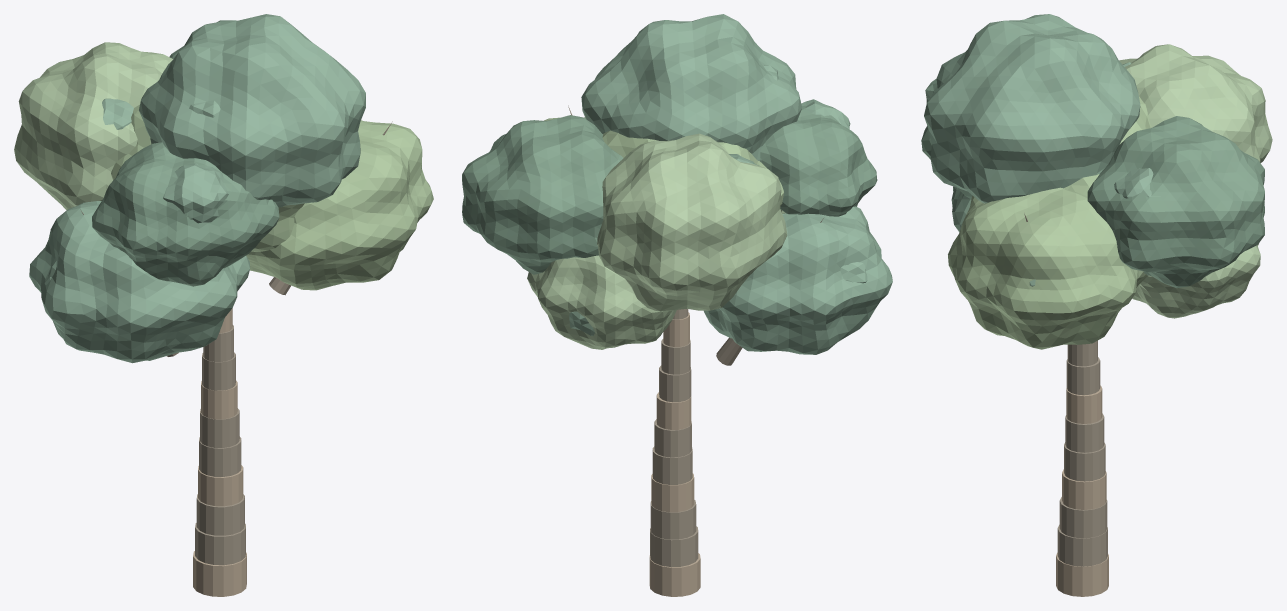
File: maple_scenic_tree.glb
3 renders of one model, left to right at view 1: azimuth 30°, elevation 25°; view 2: azimuth 150°, elevation 25°; view 3: azimuth 270°, elevation 25°, orthographic. The views are drawn at different scales.
Parts seen in each view (by area): view 1: Maple Scenic Tree_leaf1, Maple Scenic Tree_leaf2, Maple Scenic Tree_leaf3, Maple Scenic Tree_leaf4, Maple Scenic Tree_bark, Maple Scenic Tree_bark2; view 2: Maple Scenic Tree_leaf1, Maple Scenic Tree_leaf3, Maple Scenic Tree_leaf4, Maple Scenic Tree_bark, Maple Scenic Tree_bark2, Maple Scenic Tree_leaf2; view 3: Maple Scenic Tree_leaf1, Maple Scenic Tree_leaf2, Maple Scenic Tree_leaf4, Maple Scenic Tree_leaf3, Maple Scenic Tree_bark, Maple Scenic Tree_bark2.
Part boxes in pixels (x1,y1,x2,y2): Maple Scenic Tree_leaf1: (29,14,365,363); Maple Scenic Tree_leaf2: (111,104,433,290); Maple Scenic Tree_leaf3: (14,42,173,210); Maple Scenic Tree_leaf4: (92,20,279,286); Maple Scenic Tree_bark: (81,121,392,565); Maple Scenic Tree_bark2: (193,308,246,596); Maple Scenic Tree_leaf1: (569,14,892,354); Maple Scenic Tree_leaf3: (527,133,787,349); Maple Scenic Tree_leaf4: (462,105,877,274); Maple Scenic Tree_bark: (568,105,823,567); Maple Scenic Tree_bark2: (649,312,700,596); Maple Scenic Tree_leaf2: (543,117,783,205); Maple Scenic Tree_leaf1: (924,14,1160,286); Maple Scenic Tree_leaf2: (948,96,1151,349); Maple Scenic Tree_leaf4: (921,116,1264,288); Maple Scenic Tree_leaf3: (1119,44,1272,318); Maple Scenic Tree_bark: (1024,213,1107,566); Maple Scenic Tree_bark2: (1056,385,1108,596).
Size of the model in its own units: 5.21 by 7.45 by 4.23.
